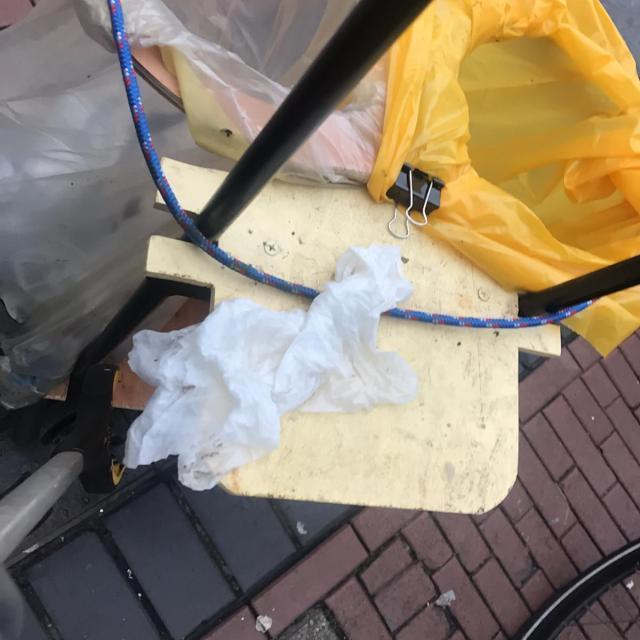Paper: (120, 240, 422, 493)
